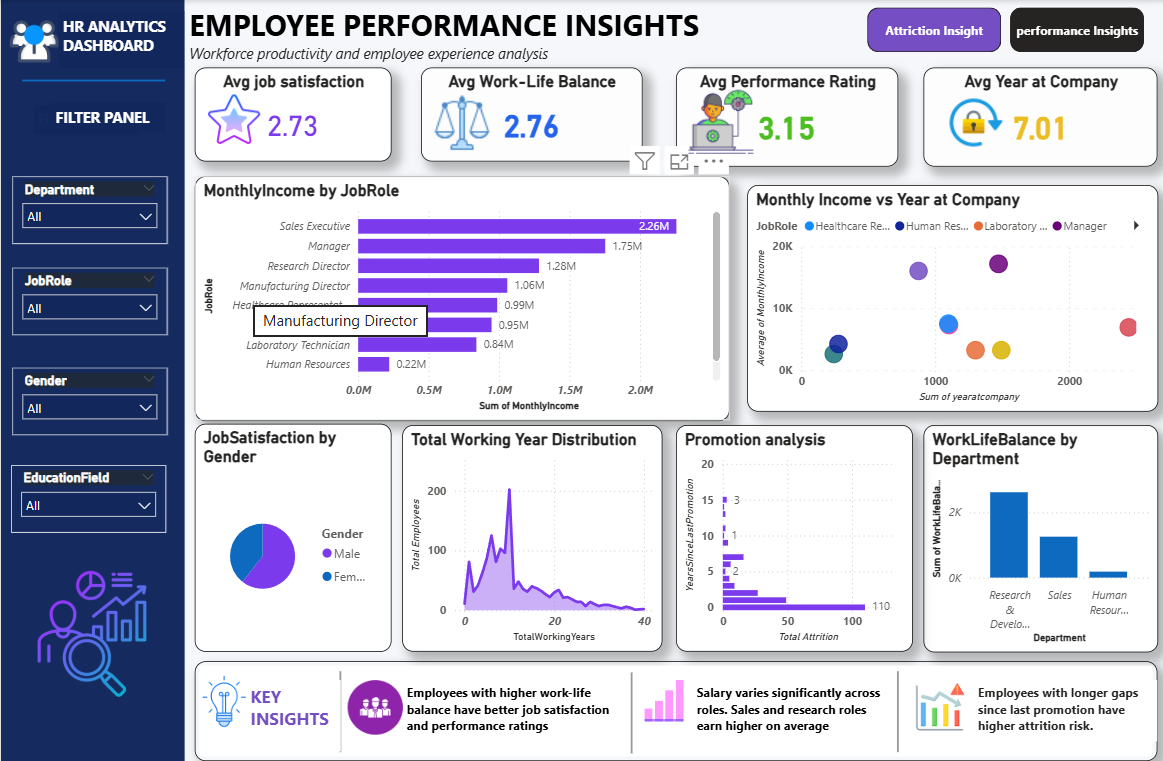

This screenshot's page, from the dashboard's own definition file:
{"tool":"powerbi","page":{"name":"performance Insights","canvas":[1280,836],"ordinal":2},"visuals":[{"type":"group","id":"g1","title":"Group 4","box":[0,0,201.4,835.7],"z":0,"group":"g10"},{"type":"group","id":"g2","title":"Group 2","box":[0,0,201.7,835.7],"z":0,"group":"g4"},{"type":"shape","box":[0,0,201.7,835.7],"z":0,"group":"g2"},{"type":"textbox","box":[63.1,12.8,138.6,62.1],"z":0,"group":"g5"},{"type":"group","id":"g3","title":"Group 3","box":[741.4,74.3,244.3,108.6],"z":0,"group":"g7"},{"type":"textbox","box":[35.7,115.7,117.1,32.9],"z":5,"group":"g1"},{"type":"group","id":"g4","title":"Group 3","box":[0,0,201.4,835.7],"z":11,"group":"g1"},{"type":"group","id":"g5","title":"Group 1","box":[9.6,8,192.1,74.8],"z":1000,"group":"g2"},{"type":"image","box":[9.6,8,53.5,74.8],"z":1000,"group":"g5"},{"type":"card","title":"Avg Work-Life Balance","fields":{"Values":["Avg(HR DATA CLEANED xlsx.WorkLifeBalance)"]},"box":[461.4,74.3,242.9,102.9],"z":1000,"group":"g6"},{"type":"textbox","box":[54.9,112.5,126.2,32.9],"z":1000,"group":"g10"},{"type":"slicer","fields":{"Values":["HR DATA CLEANED xlsx.Department"]},"box":[12.9,192.9,170,74.3],"z":1000,"group":"g4"},{"type":"textbox","box":[201.4,0,587.1,74.3],"z":2000},{"type":"shape","box":[22.9,74.3,157.1,28.6],"z":2000,"group":"g2"},{"type":"slicer","fields":{"Values":["HR DATA CLEANED xlsx.JobRole"]},"box":[12.9,294.3,170,74.3],"z":2000,"group":"g4"},{"type":"card","title":"Avg job satisfaction","fields":{"Values":["Avg(HR DATA CLEANED xlsx.JobSatisfaction)"]},"box":[231.9,74.1,215.4,102.9],"z":3000,"group":"g11"},{"type":"slicer","fields":{"Values":["HR DATA CLEANED xlsx.Gender"]},"box":[12.9,402.9,170,74.3],"z":3000,"group":"g4"},{"type":"group","id":"g6","title":"Group 4","box":[461.4,74.3,242.9,102.9],"z":4000},{"type":"card","title":"Avg Performance Rating","fields":{"Values":["Avg(HR DATA CLEANED xlsx.PerformanceRating)"]},"box":[741.4,74.3,244.3,108.6],"z":4000,"group":"g3"},{"type":"slicer","fields":{"Values":["HR DATA CLEANED xlsx.EducationField"]},"box":[11.4,510,170,74.3],"z":4000,"group":"g4"},{"type":"group","id":"g7","title":"Group 4","box":[741.4,74.3,244.3,108.6],"z":5000},{"type":"card","title":"Avg Year at  Company","fields":{"Values":["Avg(HR DATA CLEANED xlsx.YearsAtCompany)"]},"box":[1012.9,74.3,257.1,108.6],"z":5000,"group":"g8"},{"type":"image","box":[15.7,622.9,170,145.7],"z":5000,"group":"g4"},{"type":"group","id":"g8","title":"Group 1","box":[1012.9,74.3,257.1,108.6],"z":6000},{"type":"clusteredBarChart","title":" MonthlyIncome by JobRole","fields":{"Y":["Sum(HR DATA CLEANED xlsx.MonthlyIncome)"],"Category":["HR DATA CLEANED xlsx.JobRole"]},"box":[212.9,192.9,587.1,268.6],"z":7000},{"type":"clusteredColumnChart","title":" WorkLifeBalance by Department","fields":{"Category":["HR DATA CLEANED xlsx.Department"],"Y":["Sum(HR DATA CLEANED xlsx.WorkLifeBalance)"]},"box":[1012.7,466.6,258,249.7],"z":8000},{"type":"pieChart","title":"JobSatisfaction by Gender","fields":{"Category":["HR DATA CLEANED xlsx.Gender"],"Y":["Sum(HR DATA CLEANED xlsx.JobSatisfaction)"]},"box":[212.9,465.7,215.7,250],"z":9000},{"type":"areaChart","title":" Total Working Year Distribution","fields":{"Y":["HR DATA CLEANED xlsx.Total Employees"],"Category":["HR DATA CLEANED xlsx.TotalWorkingYears"]},"box":[440,467.1,285.7,248.6],"z":10000},{"type":"clusteredBarChart","title":"Promotion analysis","fields":{"Category":["HR DATA CLEANED xlsx.YearsSinceLastPromotion"],"Y":["HR DATA CLEANED xlsx.Total Attrition"]},"box":[741.4,467.1,260,248.6],"z":11000},{"type":"scatterChart","title":"Monthly Income vs Year at Company","fields":{"X":["Sum(HR DATA CLEANED xlsx.yearatcompany)"],"Y":["Avg(HR DATA CLEANED xlsx.MonthlyIncome)"],"Size":["Avg(HR DATA CLEANED xlsx.performance rating)"],"Series":["HR DATA CLEANED xlsx.JobRole"]},"box":[818.6,202.9,451.4,248.6],"z":12000},{"type":"shape","box":[212.7,725.9,1056.6,109.8],"z":13000},{"type":"shape","box":[338.9,736.9,67.2,89.2],"z":14000},{"type":"shape","box":[658.7,738.3,67.2,89.2],"z":15000},{"type":"image","box":[196.1,740.5,97.4,57.6],"z":15000,"group":"g9"},{"type":"shape","box":[950.9,736.9,67.2,89.2],"z":16000},{"type":"textbox","box":[269,746.5,104.3,78.2],"z":17000},{"type":"textbox","box":[440.5,746.5,238.8,78.2],"z":18000},{"type":"textbox","box":[758.8,746.5,218.2,67.2],"z":19000},{"type":"textbox","box":[1067.6,746.5,201.7,67.2],"z":20000},{"type":"group","id":"g9","title":"Group 9","box":[196.1,740.5,97.4,57.6],"z":21000},{"type":"image","box":[219.6,94.7,86.4,70],"z":22000,"group":"g11"},{"type":"image","box":[466.6,102.9,79.6,63.1],"z":23000},{"type":"image","box":[725.9,96.1,129,75.5],"z":24000},{"type":"image","box":[1030.5,102.9,74.1,63.1],"z":25000},{"type":"image","box":[697.1,746.5,61.7,45.3],"z":26000},{"type":"image","box":[953.7,749.2,155.1,53.5],"z":27000},{"type":"image","box":[373.2,746.5,75.5,60.4],"z":28000},{"type":"pageNavigator","box":[950.9,8.2,304.6,49.4],"z":29000},{"type":"group","id":"g10","title":"Group 5","box":[0,0,201.7,835.7],"z":29001},{"type":"group","id":"g11","title":"Group 6","box":[219.6,74.1,227.8,102.9],"z":29002}]}

Visuals, with their boxes in screenshot pixels (x1, y1, x2, y2), scaled from the page's 1280x836 canvas onto the 1163x761 screenshot:
"Group 4" group: [0,0,183,760]
"Group 2" group: [0,0,183,760]
shape: [0,0,183,760]
textbox: [57,12,183,68]
"Group 3" group: [674,68,896,166]
textbox: [32,105,139,135]
"Group 3" group: [0,0,183,760]
"Group 1" group: [9,7,183,75]
image: [9,7,57,75]
"Avg Work-Life Balance" card: [419,68,640,161]
textbox: [50,102,165,132]
slicer - HR DATA CLEANED xlsx.Department: [12,176,166,243]
textbox: [183,0,716,68]
shape: [21,68,164,94]
slicer - HR DATA CLEANED xlsx.JobRole: [12,268,166,336]
"Avg job satisfaction" card: [211,67,406,161]
slicer - HR DATA CLEANED xlsx.Gender: [12,367,166,434]
"Group 4" group: [419,68,640,161]
"Avg Performance Rating" card: [674,68,896,166]
slicer - HR DATA CLEANED xlsx.EducationField: [10,464,165,532]
"Group 4" group: [674,68,896,166]
"Avg Year at  Company" card: [920,68,1154,166]
image: [14,567,169,700]
"Group 1" group: [920,68,1154,166]
" MonthlyIncome by JobRole" clusteredBarChart: [193,176,727,420]
" WorkLifeBalance by Department" clusteredColumnChart: [920,425,1155,652]
"JobSatisfaction by Gender" pieChart: [193,424,389,651]
" Total Working Year Distribution" areaChart: [400,425,659,651]
"Promotion analysis" clusteredBarChart: [674,425,910,651]
"Monthly Income vs Year at Company" scatterChart: [744,185,1154,411]
shape: [193,661,1153,760]
shape: [308,671,369,752]
shape: [598,672,660,753]
image: [178,674,267,727]
shape: [864,671,925,752]
textbox: [244,680,339,751]
textbox: [400,680,617,751]
textbox: [689,680,888,741]
textbox: [970,680,1153,741]
"Group 9" group: [178,674,267,727]
image: [200,86,278,150]
image: [424,94,496,151]
image: [660,87,777,156]
image: [936,94,1004,151]
image: [633,680,689,721]
image: [867,682,1007,731]
image: [339,680,408,735]
pageNavigator: [864,7,1141,52]
"Group 5" group: [0,0,183,760]
"Group 6" group: [200,67,407,161]
